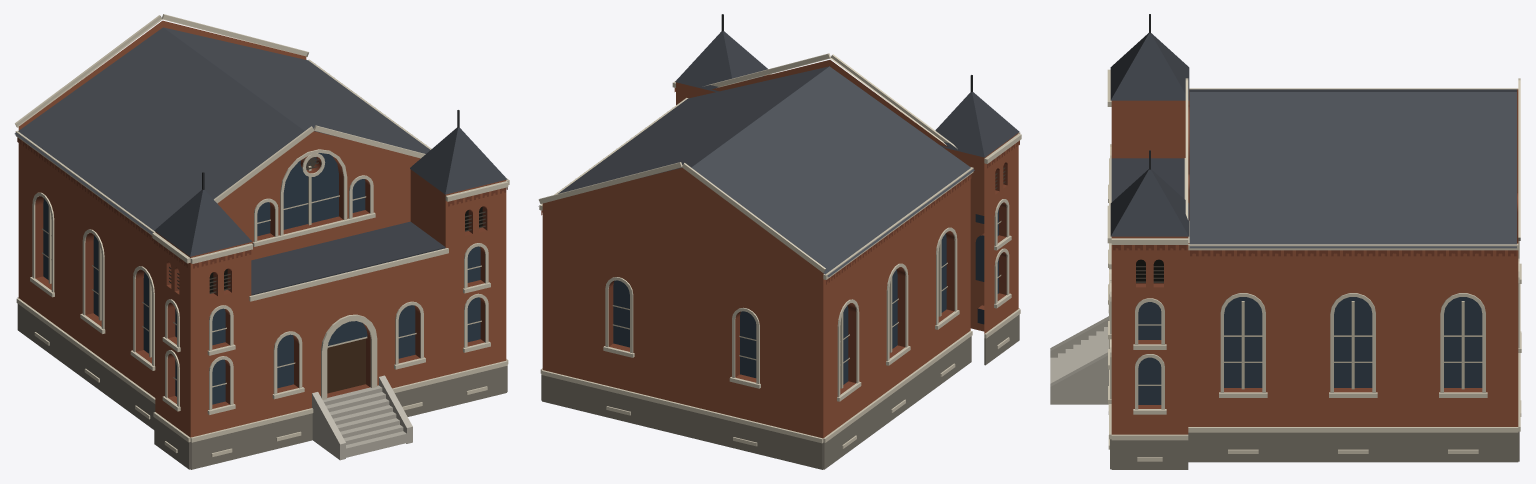
The model's file is ch-pulaski-heights-methodist-1913.glb.
The picture shows the model from 3 angles, left to right: view 1: azimuth 30°, elevation 25°; view 2: azimuth 150°, elevation 25°; view 3: azimuth 270°, elevation 25°; orthographic projection. The views are drawn at different scales.
Visible parts, largest first — view 1: ch_brick, ch_roof, ch_trim, ch_roof2, ch_base, ch_stain, ch_brick2, ch_conc, ch_door, ch_trc; view 2: ch_brick, ch_roof, ch_trim, ch_base, ch_roof2, ch_brick2, ch_stain, ch_trc; view 3: ch_brick, ch_roof, ch_trim, ch_base, ch_stain, ch_roof2, ch_conc, ch_brick2, ch_trc, ch_lead.
Part boxes in pixels (left/top/right/bottom): ch_brick: left=18, top=20, right=506, bottom=437; ch_roof: left=14, top=27, right=430, bottom=234; ch_trim: left=15, top=14, right=509, bottom=457; ch_roof2: left=154, top=127, right=507, bottom=295; ch_base: left=17, top=304, right=507, bottom=469; ch_stain: left=43, top=153, right=480, bottom=404; ch_brick2: left=17, top=137, right=507, bottom=408; ch_conc: left=312, top=375, right=412, bottom=460; ch_door: left=327, top=338, right=365, bottom=393; ch_trc: left=48, top=166, right=311, bottom=357; ch_brick: left=542, top=60, right=1018, bottom=438; ch_roof: left=538, top=66, right=974, bottom=276; ch_trim: left=538, top=53, right=1021, bottom=448; ch_base: left=541, top=314, right=1019, bottom=469; ch_roof2: left=675, top=31, right=1019, bottom=157; ch_brick2: left=541, top=88, right=1019, bottom=394; ch_stain: left=613, top=209, right=998, bottom=384; ch_trc: left=840, top=240, right=941, bottom=388; ch_brick: left=1111, top=89, right=1518, bottom=434; ch_roof: left=1189, top=89, right=1516, bottom=248; ch_trim: left=1107, top=69, right=1521, bottom=461; ch_base: left=1110, top=431, right=1519, bottom=469; ch_stain: left=1138, top=297, right=1482, bottom=404; ch_roof2: left=1110, top=33, right=1189, bottom=236; ch_conc: left=1050, top=316, right=1109, bottom=404; ch_brick2: left=1113, top=105, right=1518, bottom=408; ch_trc: left=1241, top=301, right=1464, bottom=389; ch_lead: left=1138, top=324, right=1482, bottom=385.
Size of the model in its own units: 15.92 by 13.19 by 18.44.
